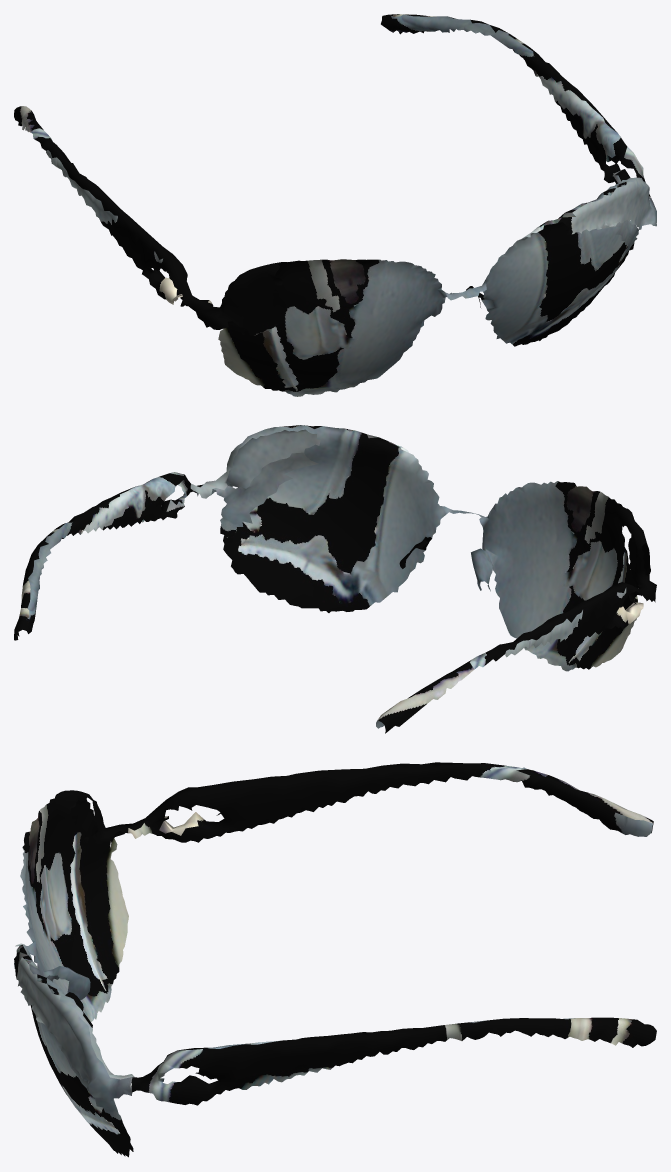
File: scan_align.obj
3 views of the same model, one above another, from view 1: azimuth 30°, elevation 25°; view 2: azimuth 150°, elevation 25°; view 3: azimuth 270°, elevation 25° (orthographic). The views are drawn at different scales.
Size of the model in its own units: 0.1546 by 0.0504 by 0.1542.
